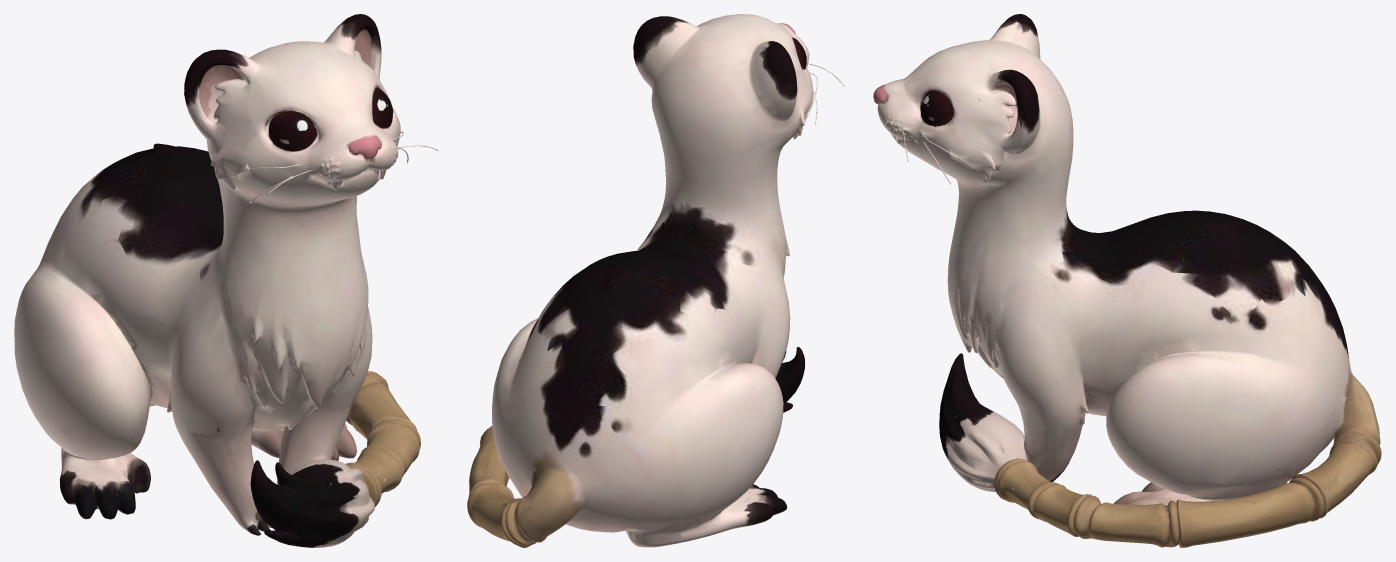
3 renders of one model, left to right at view 1: azimuth 30°, elevation 25°; view 2: azimuth 150°, elevation 25°; view 3: azimuth 270°, elevation 25°, orthographic. The views are drawn at different scales.
Visible parts, largest first — view 1: Mesh_0; view 2: Mesh_0; view 3: Mesh_0.
Part boxes in pixels (x1,y1,x2,y2): Mesh_0: [14, 14, 438, 547]; Mesh_0: [467, 14, 844, 547]; Mesh_0: [873, 14, 1381, 547].
Size of the model in its own units: 1.28 by 1.76 by 1.9.
Materials: 1 (1 with a texture image).
